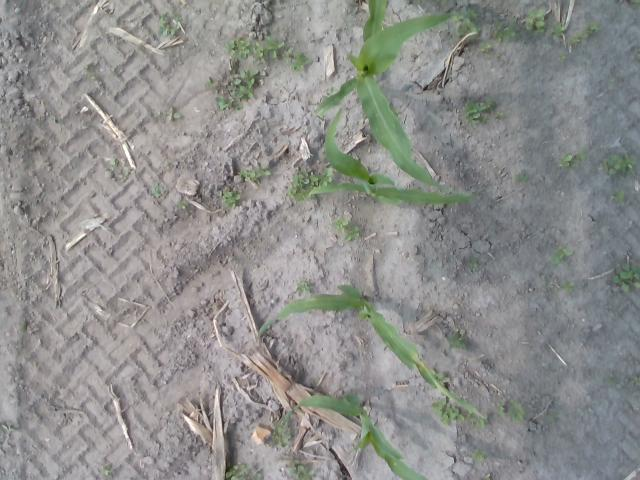Maize: (259, 286, 487, 420), (314, 1, 453, 190), (306, 106, 472, 202), (284, 395, 430, 480)
Weeds: (208, 70, 262, 110), (230, 39, 284, 59), (612, 263, 640, 293), (602, 154, 636, 176), (271, 413, 293, 446), (290, 169, 312, 201), (524, 8, 548, 35), (458, 7, 480, 36), (572, 23, 598, 46), (290, 459, 316, 479), (238, 166, 270, 181), (284, 50, 308, 70), (500, 403, 525, 422), (466, 100, 492, 118), (158, 14, 178, 36), (492, 23, 516, 41), (434, 404, 458, 421), (550, 247, 574, 264), (446, 332, 467, 349), (310, 169, 333, 184), (221, 190, 241, 206), (560, 153, 582, 166), (226, 464, 240, 480), (346, 227, 360, 242), (333, 218, 348, 230), (152, 182, 164, 197), (296, 281, 308, 296), (562, 280, 575, 292), (514, 172, 528, 182), (478, 42, 491, 52), (614, 191, 626, 201), (168, 108, 178, 120), (554, 22, 562, 36), (470, 257, 478, 270), (549, 408, 558, 418), (473, 450, 482, 460), (120, 172, 130, 179), (494, 112, 504, 118), (176, 200, 182, 210), (633, 376, 640, 384), (558, 54, 566, 61), (110, 158, 116, 166), (164, 162, 170, 168)
